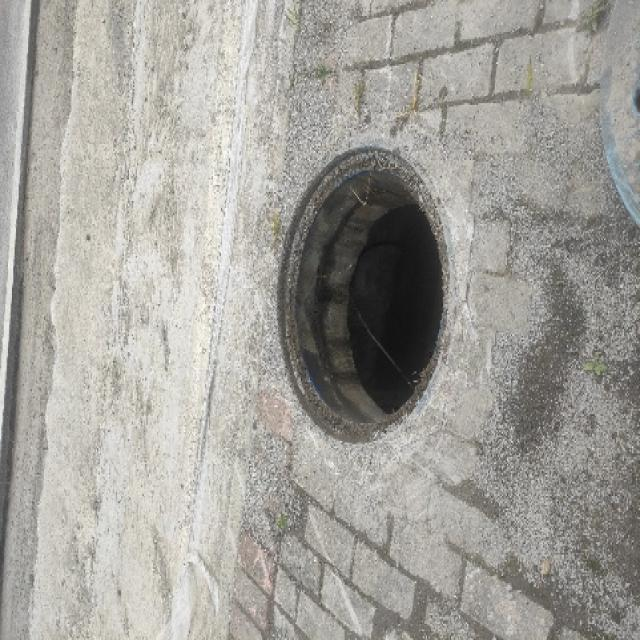Faulty: (258, 133, 472, 467)
